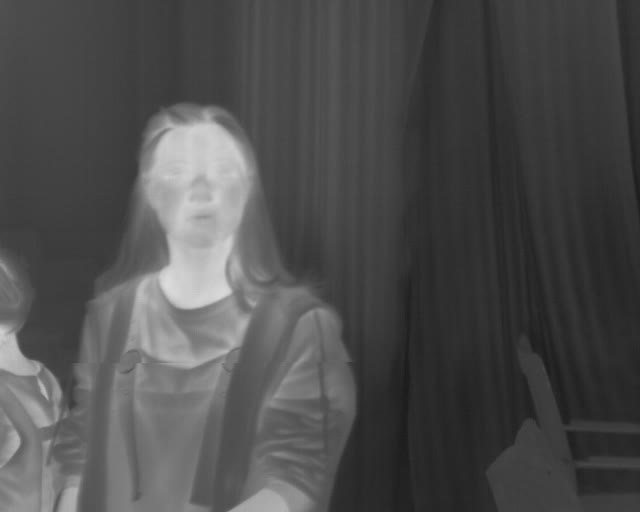face: (409, 186, 481, 277), (213, 144, 281, 235)
